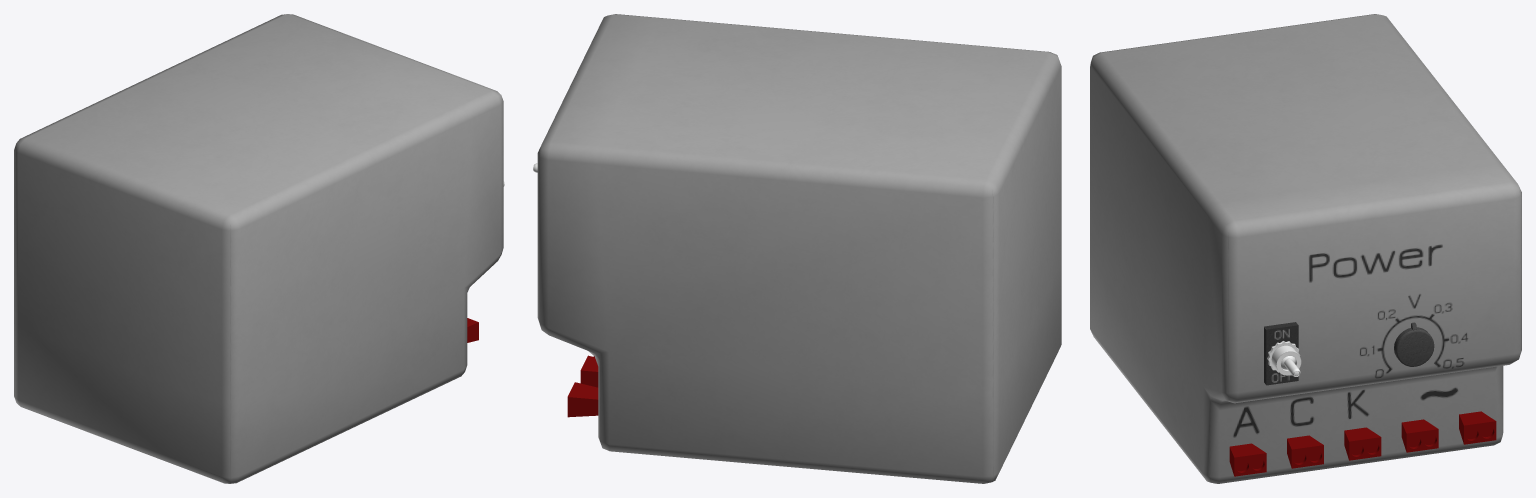
Rendered from Power block.fbx.
3 views of the same model, side by side, from view 1: azimuth 30°, elevation 25°; view 2: azimuth 150°, elevation 25°; view 3: azimuth 270°, elevation 25° (orthographic). The views are drawn at different scales.
Parts seen in each view (by area): view 1: Power block.002; view 2: Power block.002, Cube.007; view 3: Power block.002, Cube.007, Switch 1.002, Rheostat 1.002.
Boxes of the visible parts, x1,y1,x2,y2 form: Power block.002: (14, 14, 503, 483); Power block.002: (537, 14, 1061, 483); Cube.007: (567, 355, 598, 417); Power block.002: (1090, 14, 1521, 483); Cube.007: (1229, 411, 1496, 476); Switch 1.002: (1264, 322, 1301, 385); Rheostat 1.002: (1394, 322, 1434, 366).
Bounding box in the file's own units: 349 × 200 × 273.
